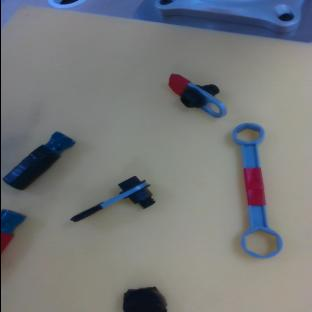part_1_bad: (64, 173, 156, 223)
part_1_good: (162, 72, 232, 120)
part_2_bad: (1, 126, 76, 196)
part_2_good: (1, 210, 25, 254)
part_3_bad: (123, 288, 166, 312)
part_3_good: (221, 120, 284, 262)
